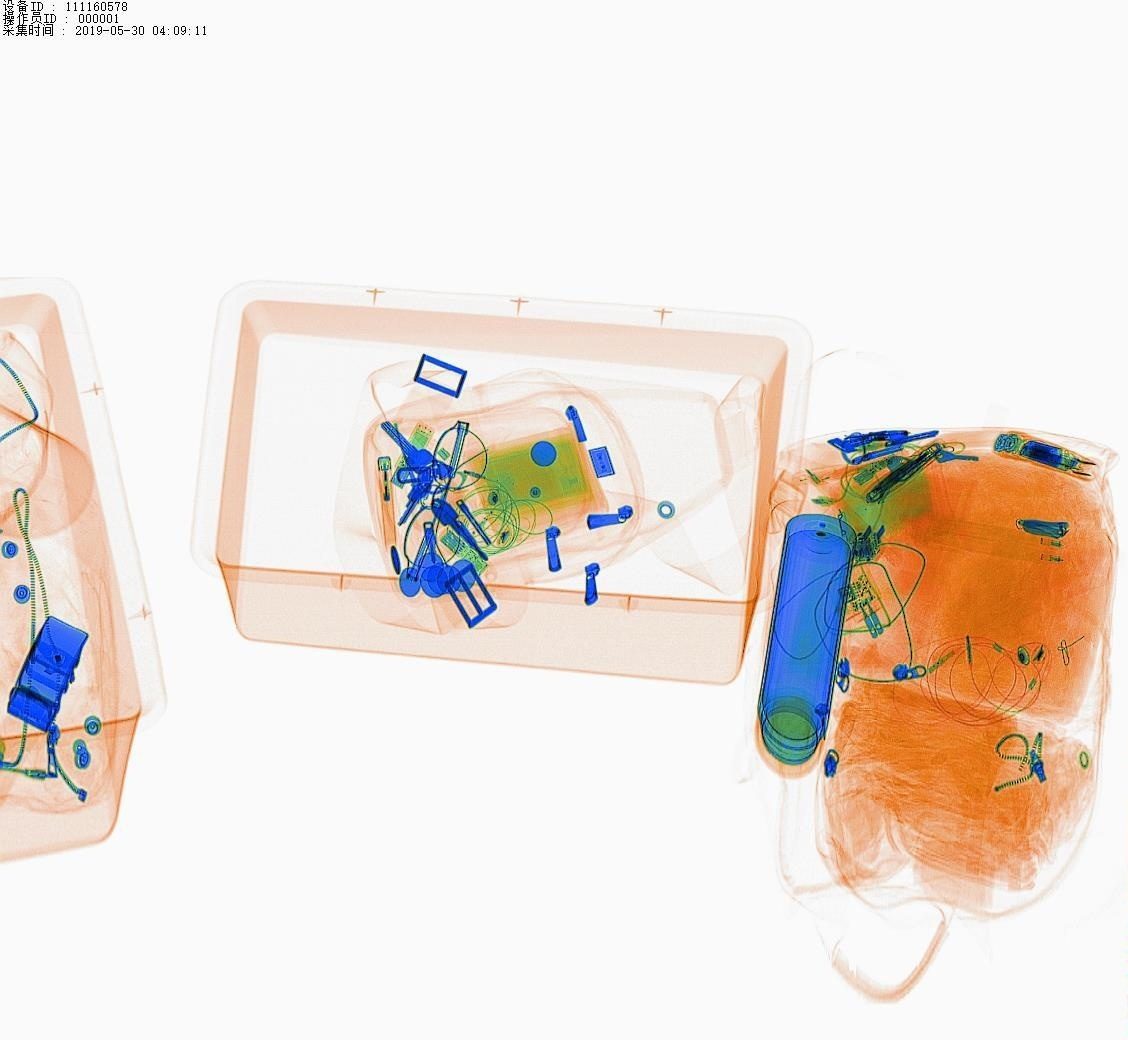NonmetallicFire: (365, 439, 411, 557)
